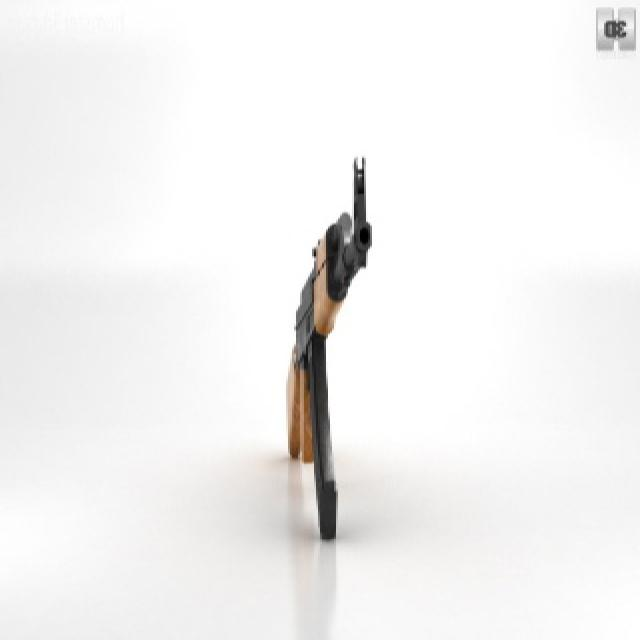rifle: (281, 146, 393, 550)
